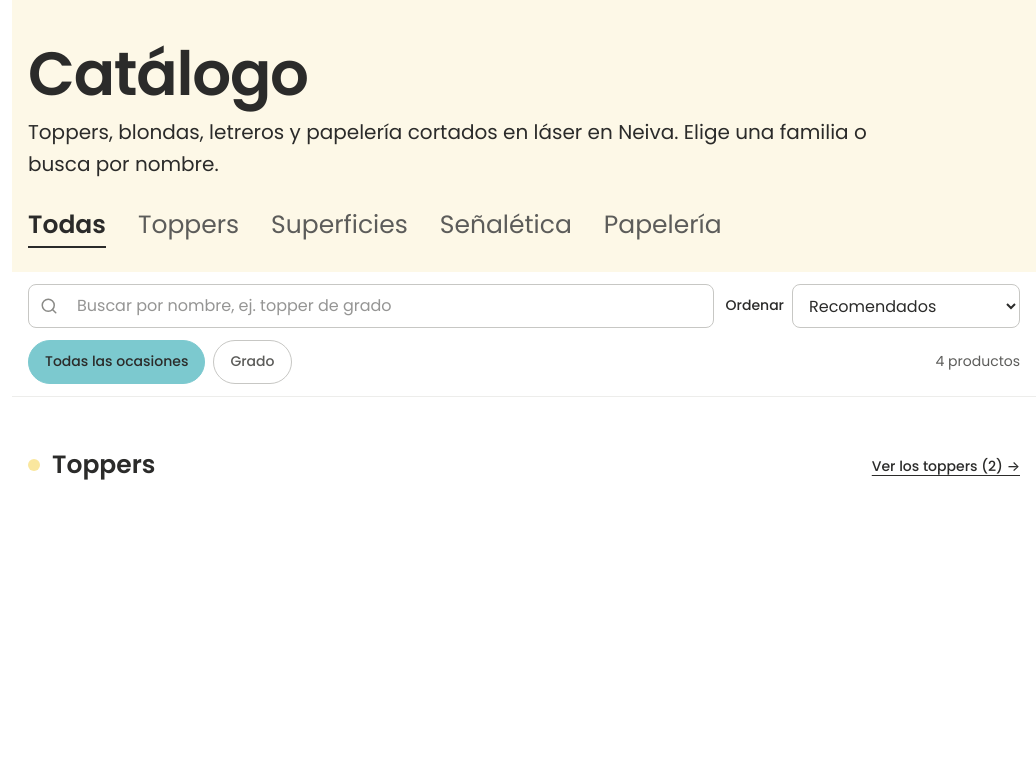
CatalogoPage › buscar junta los estantes en una grilla y actualiza el conteo
This screenshot has width=1036, height=763.
Type "topper" into the search field named "Buscar en el catálogo".
click(371, 306); type("topper")  # box [28, 284, 714, 328]
(page scrolled)
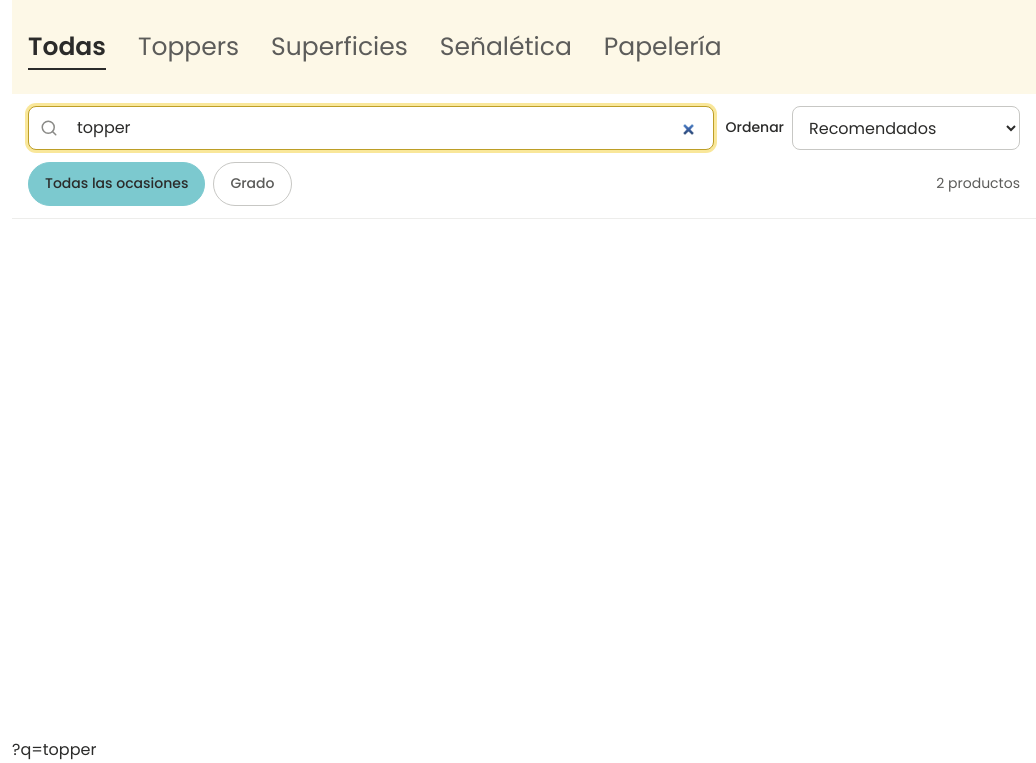
Check: no links "toppers" are shown
Check: the message reads "2 productos", box [936, 173, 1020, 193]
Check: the text with test id "ubicacion" reads "?q=topper", box [12, 738, 96, 761]
